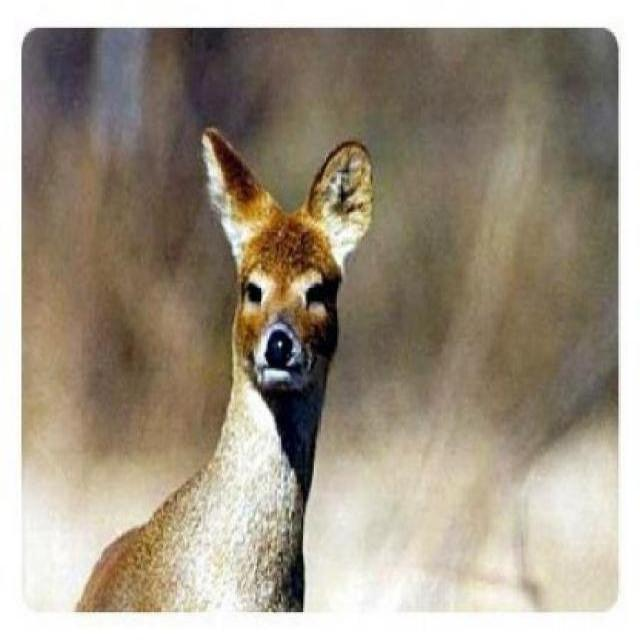deer: (76, 123, 387, 610)
